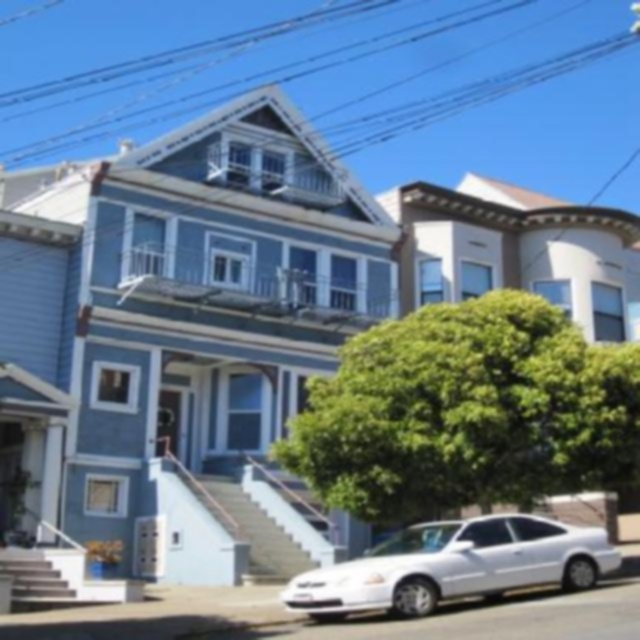stair: (177, 477, 320, 586), (2, 549, 85, 609)
